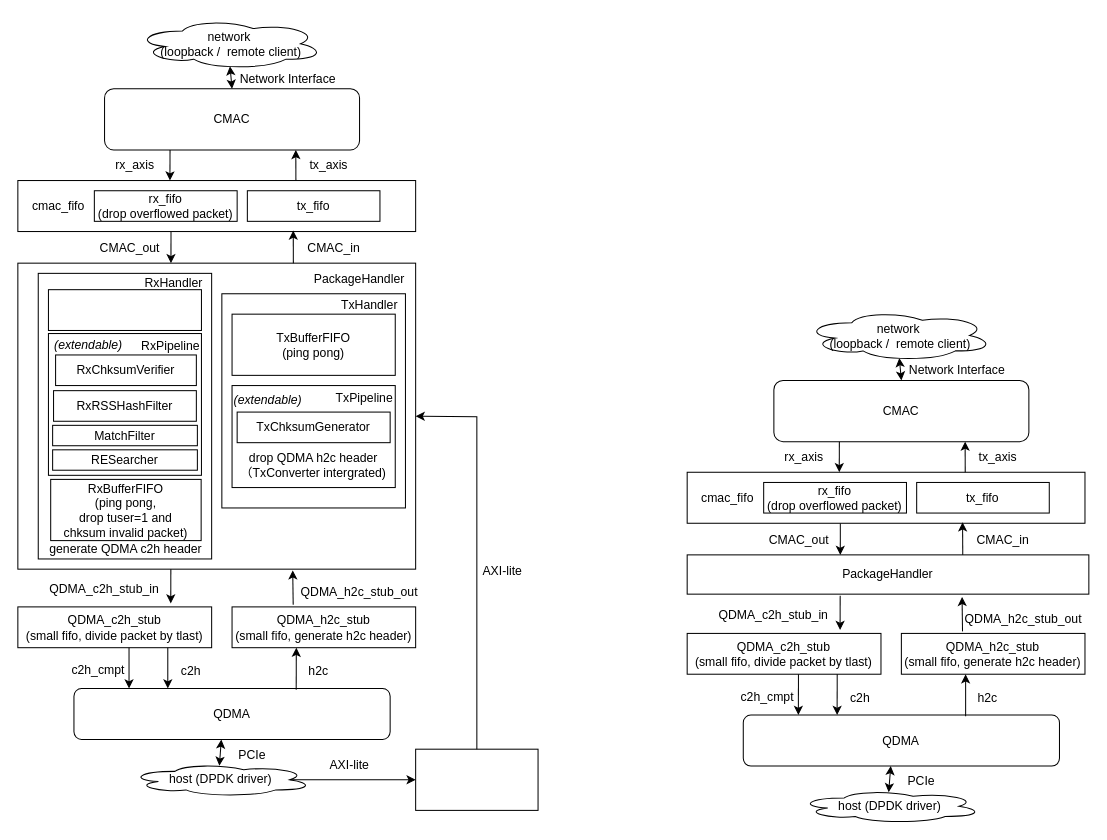
Image size: 1107x840. Some labels were removed from this diagram. Each missing label, with the centre of its shape:
"Control Register" belongs at point 476,779.
"RxConverter (calculate tlen)" belongs at point 124,309.
